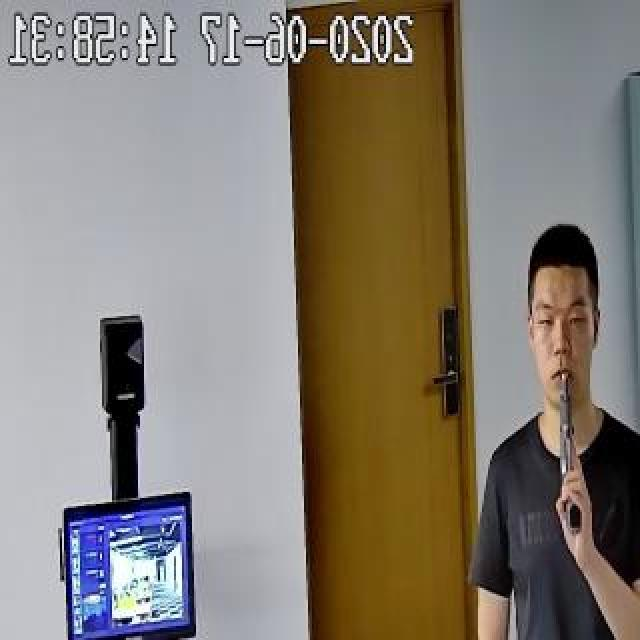Guns: (548, 363, 592, 546)
